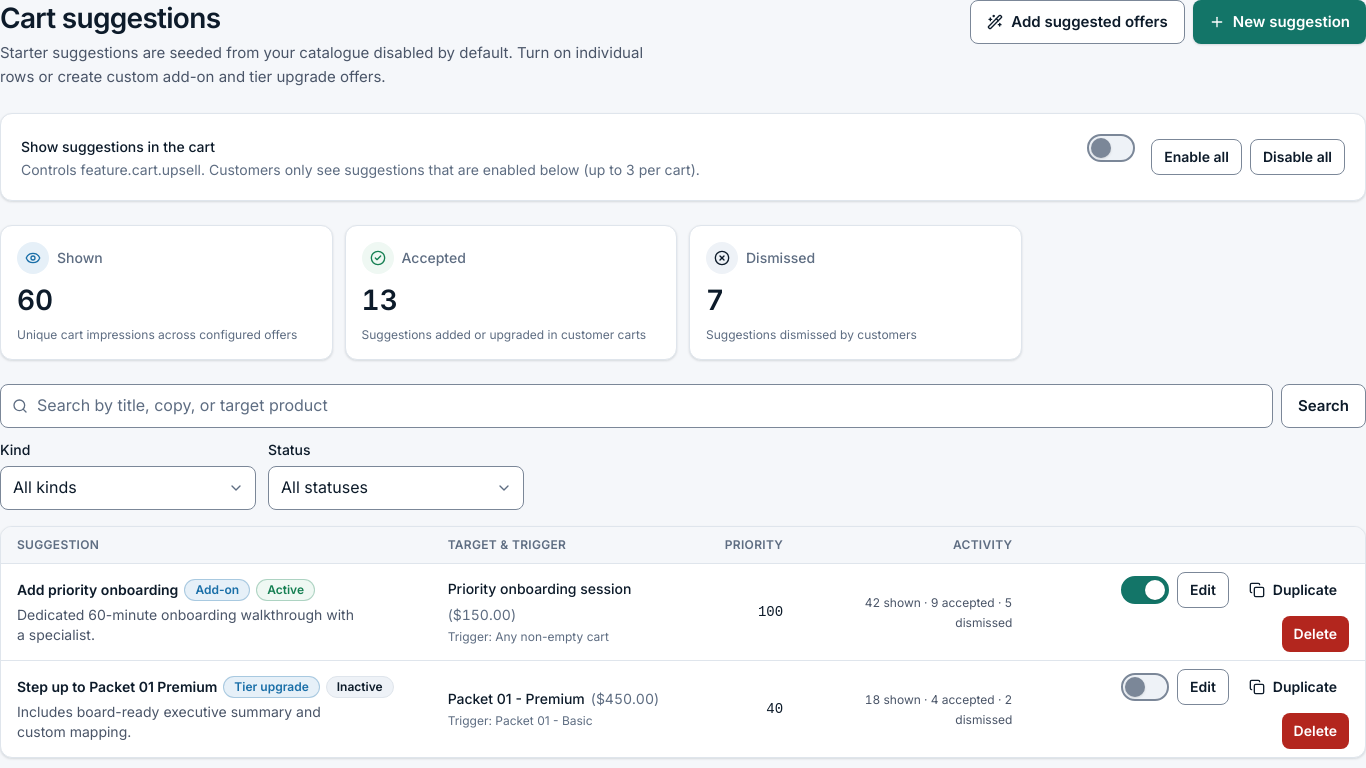
Scenario: AdminCartUpsellsPage (/admin/carts/suggestions) › renders aggregated counters, page-level switch, and filters offers cleanly
Expected: the heading "Cart suggestions" is shown, [0,0,220,37]
Expected: the button "Add suggested offers" is shown, [970,0,1185,44]
Note: Filter by search
Type "nonexistent offer" into the search field named "Search cart suggestions". click: (637,406)
box: [0,384,1273,428]
Then press Enter
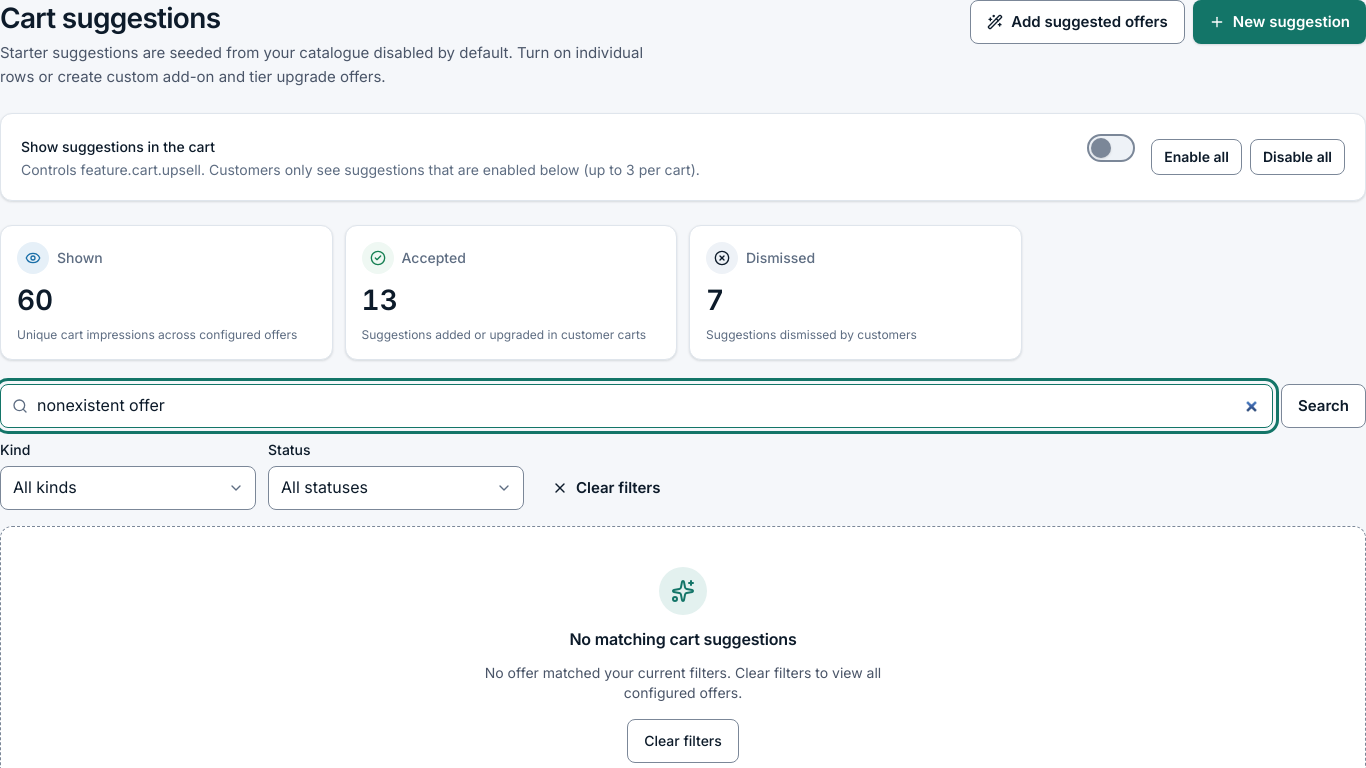
Expected: the heading "No matching cart suggestions" is shown, [569,627,797,651]
Click the button "Clear filters" below "Status". click: (606,488)
box: [536,466,676,510]
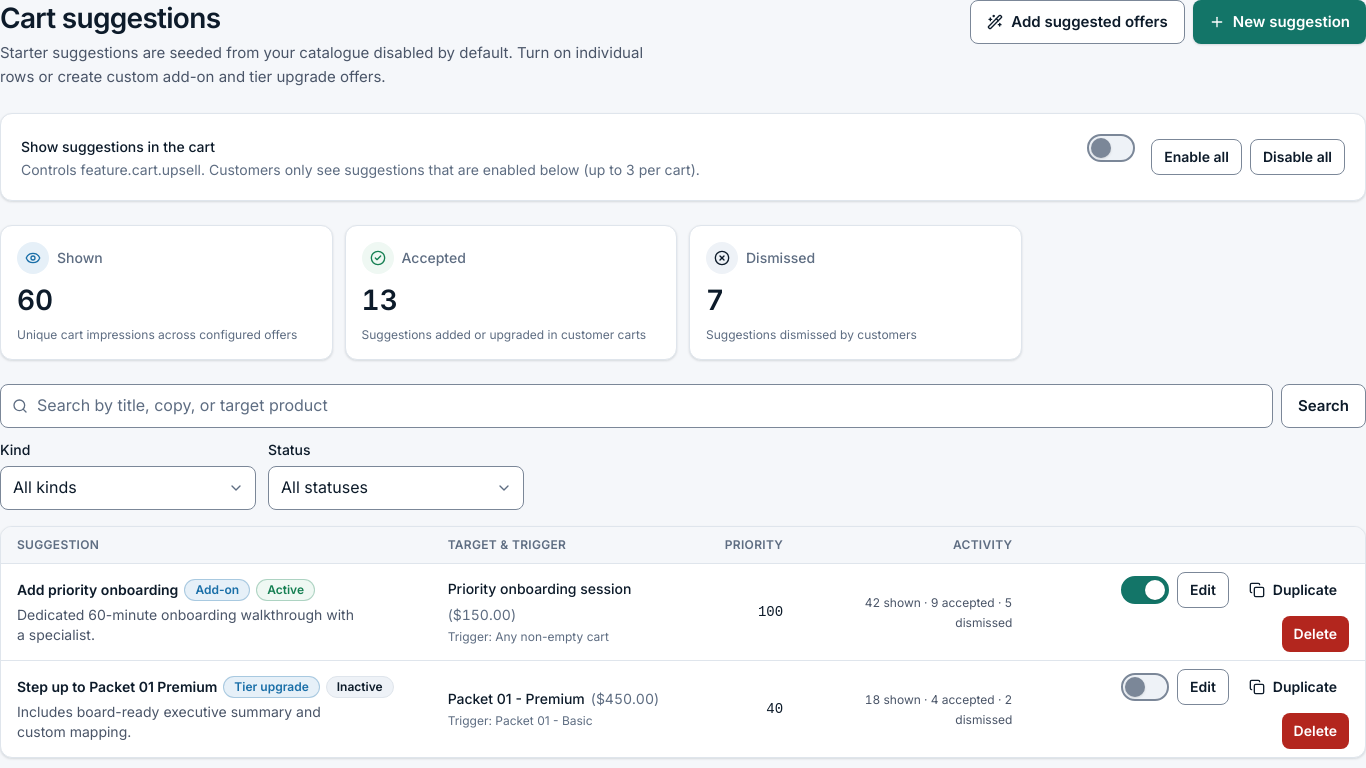
Expected: the text "Add priority onboarding" is shown, [17,580,178,600]
